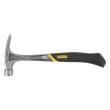hammer: (1, 32, 106, 78)
